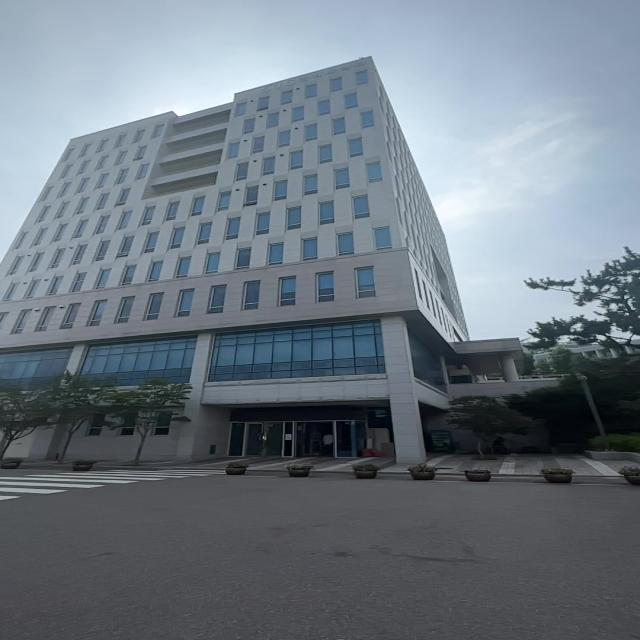building: (7, 59, 492, 387)
